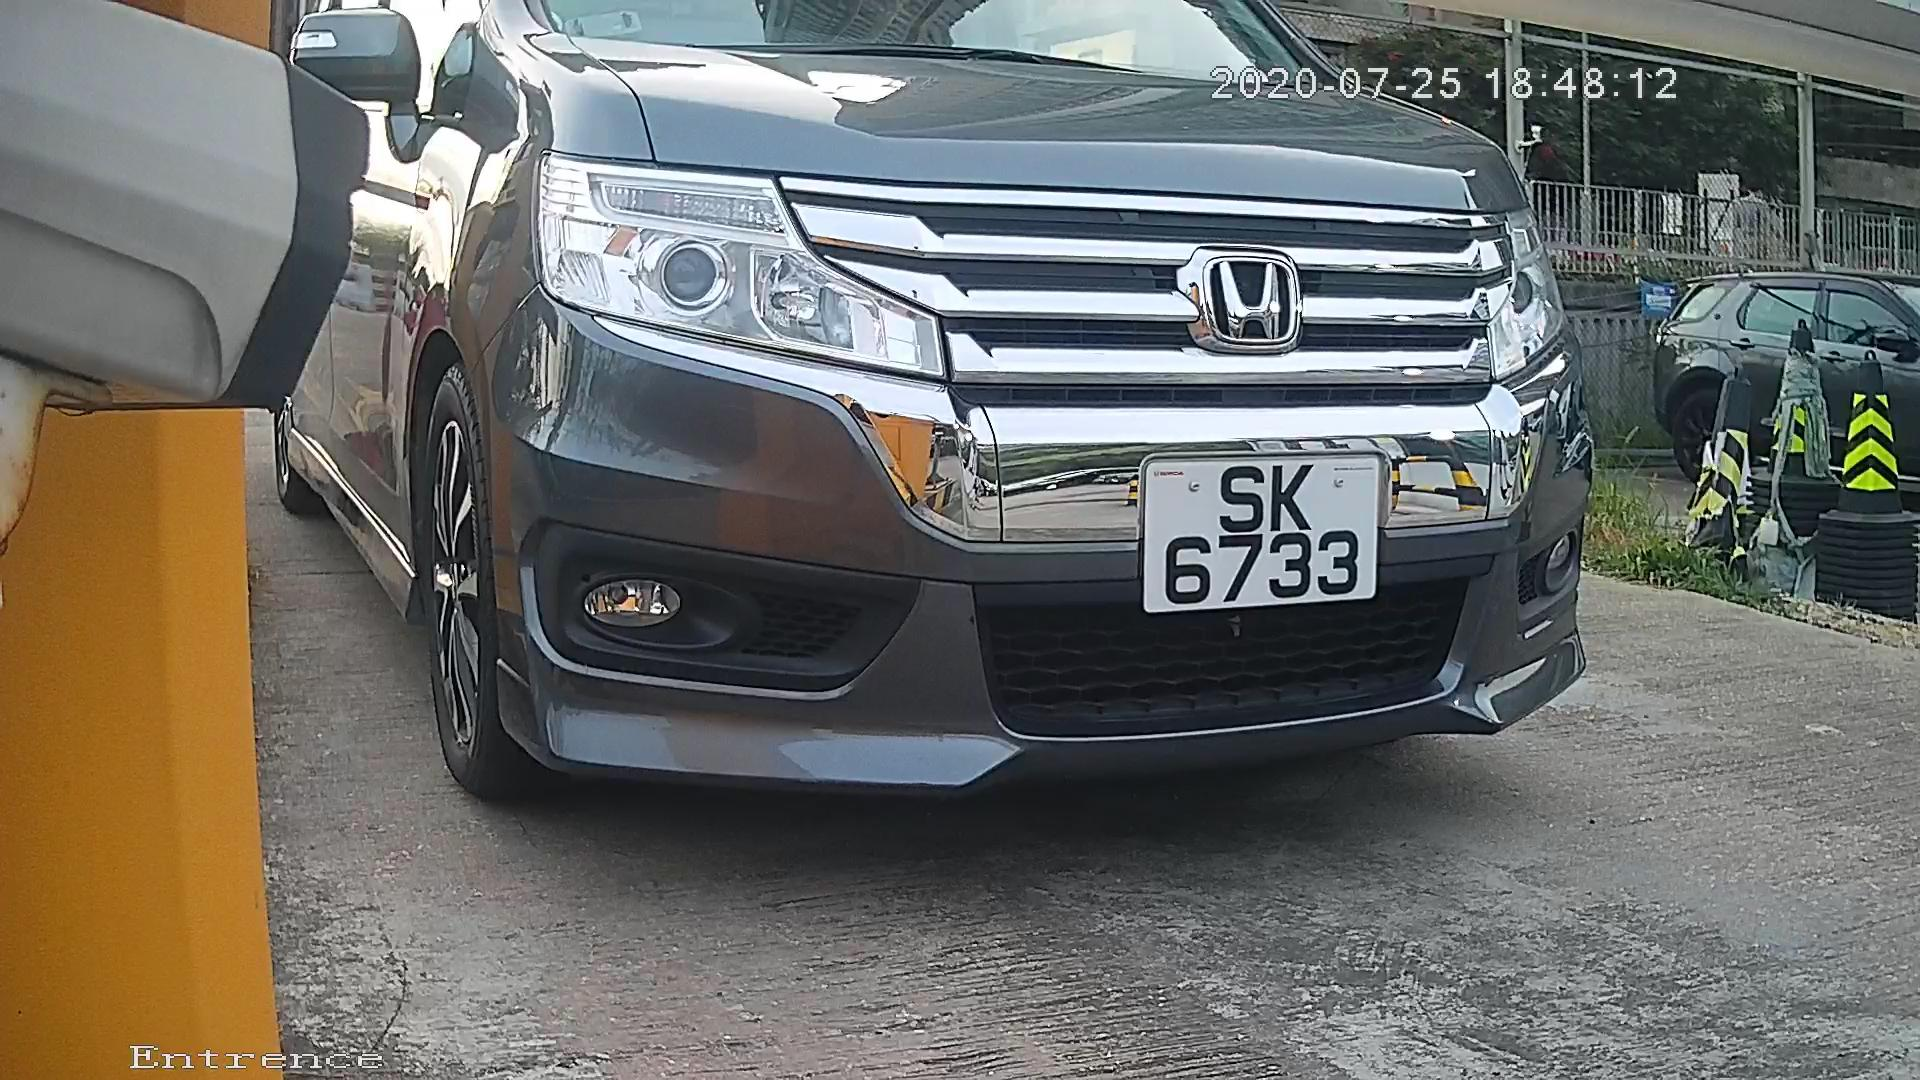License Plate: (1115, 415, 1415, 618)
